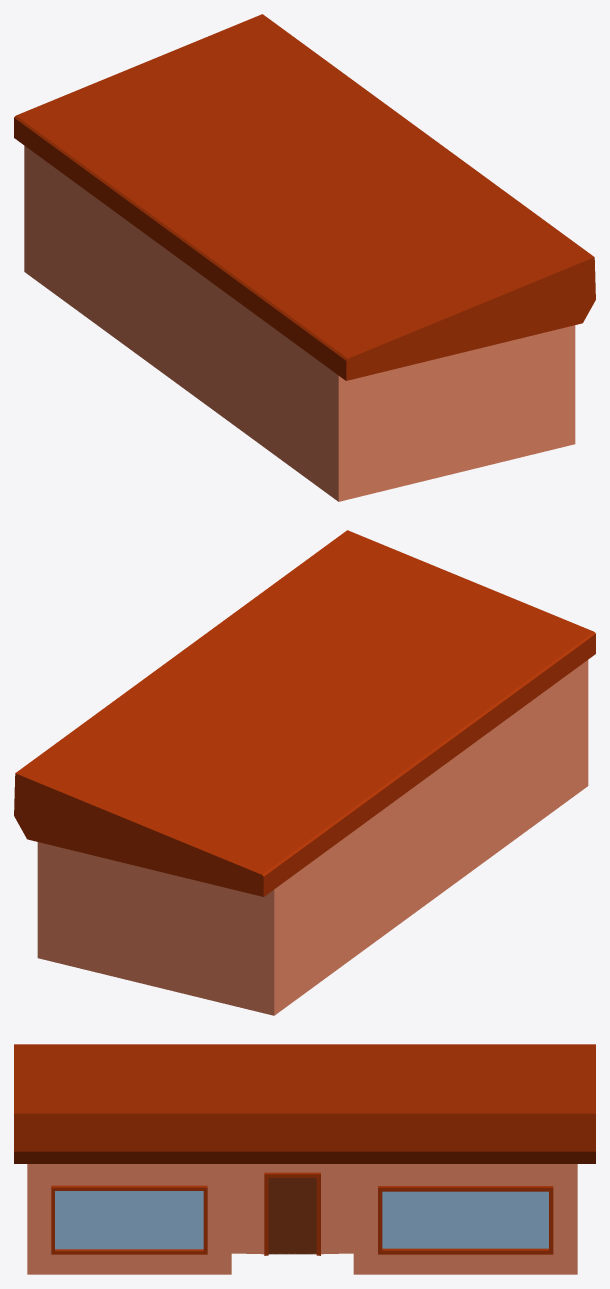
The model's file is red residential building 3.fbx.
3 renders of one model, top to bottom at view 1: azimuth 30°, elevation 25°; view 2: azimuth 150°, elevation 25°; view 3: azimuth 270°, elevation 25°, orthographic. The views are drawn at different scales.
Visible parts, largest first — view 1: Cube; view 2: Cube; view 3: Cube.
Boxes of the visible parts, <box> form: Cube: <box>14,14,595,501</box>; Cube: <box>14,530,595,1015</box>; Cube: <box>14,1044,595,1274</box>.
Size of the model in its own units: 414 by 301 by 953.
